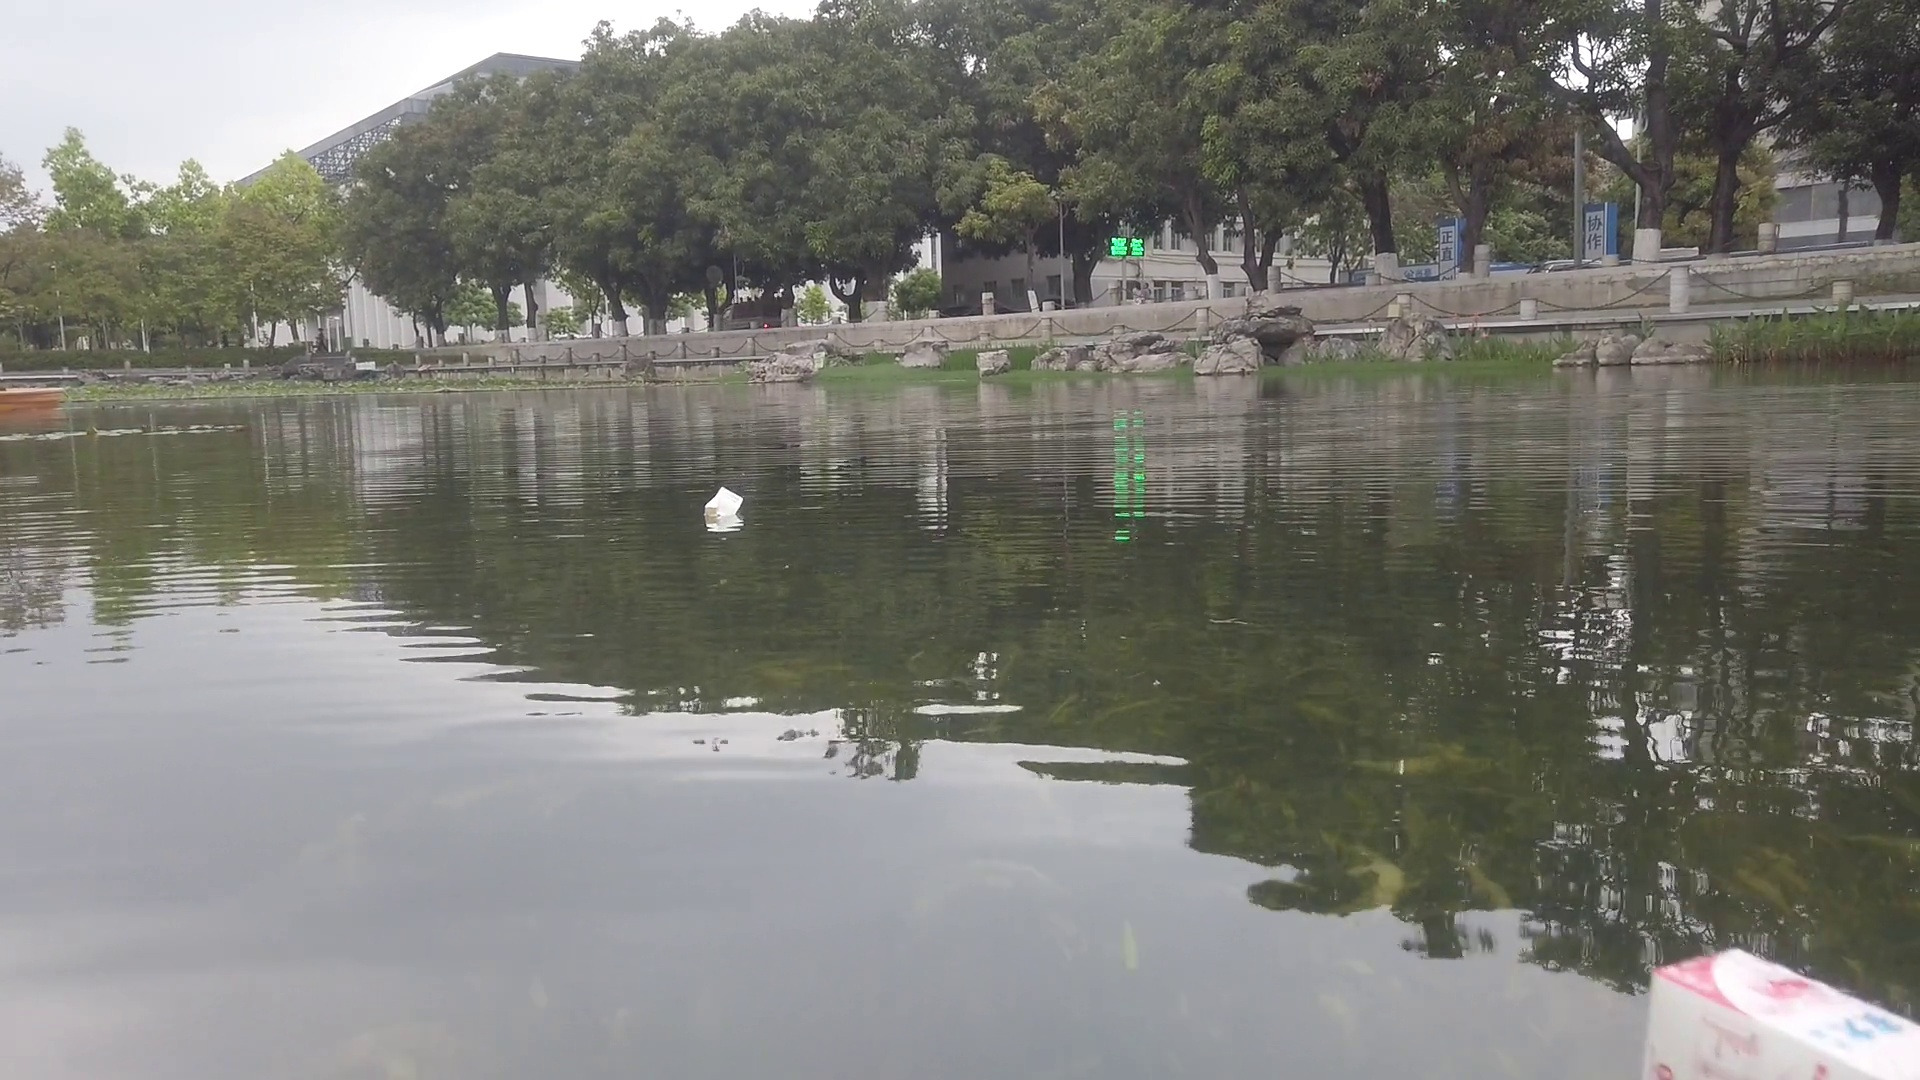carton: (1644, 949, 1920, 1080), (703, 487, 744, 530)
